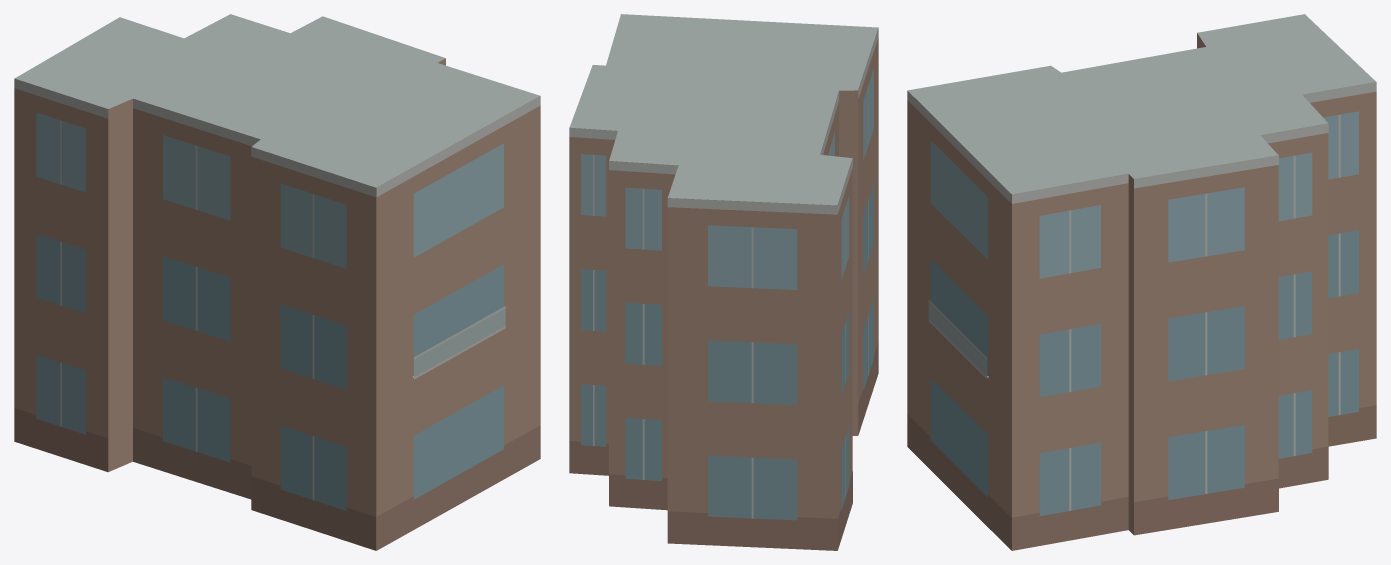
File: survey-upis-32696423.glb
3 renders of one model, left to right at view 1: azimuth 30°, elevation 25°; view 2: azimuth 150°, elevation 25°; view 3: azimuth 270°, elevation 25°, orthographic. The views are drawn at different scales.
Visible parts, largest first — view 1: survey-upis-32696423.tmp; view 2: survey-upis-32696423.tmp; view 3: survey-upis-32696423.tmp.
Part boxes in pixels (bbox=[...]): survey-upis-32696423.tmp: bbox=[14, 14, 540, 550]; survey-upis-32696423.tmp: bbox=[569, 14, 878, 550]; survey-upis-32696423.tmp: bbox=[907, 14, 1376, 550].
Bounding box in the file's own units: 9.95 × 9.15 × 10.93.
